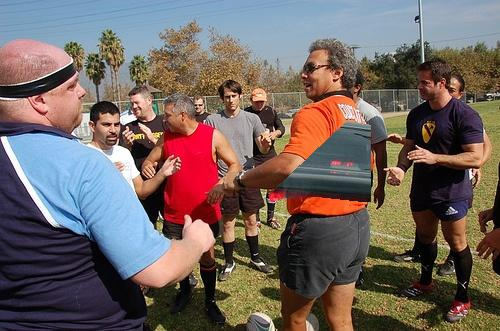tampered: (269, 122, 371, 202)
